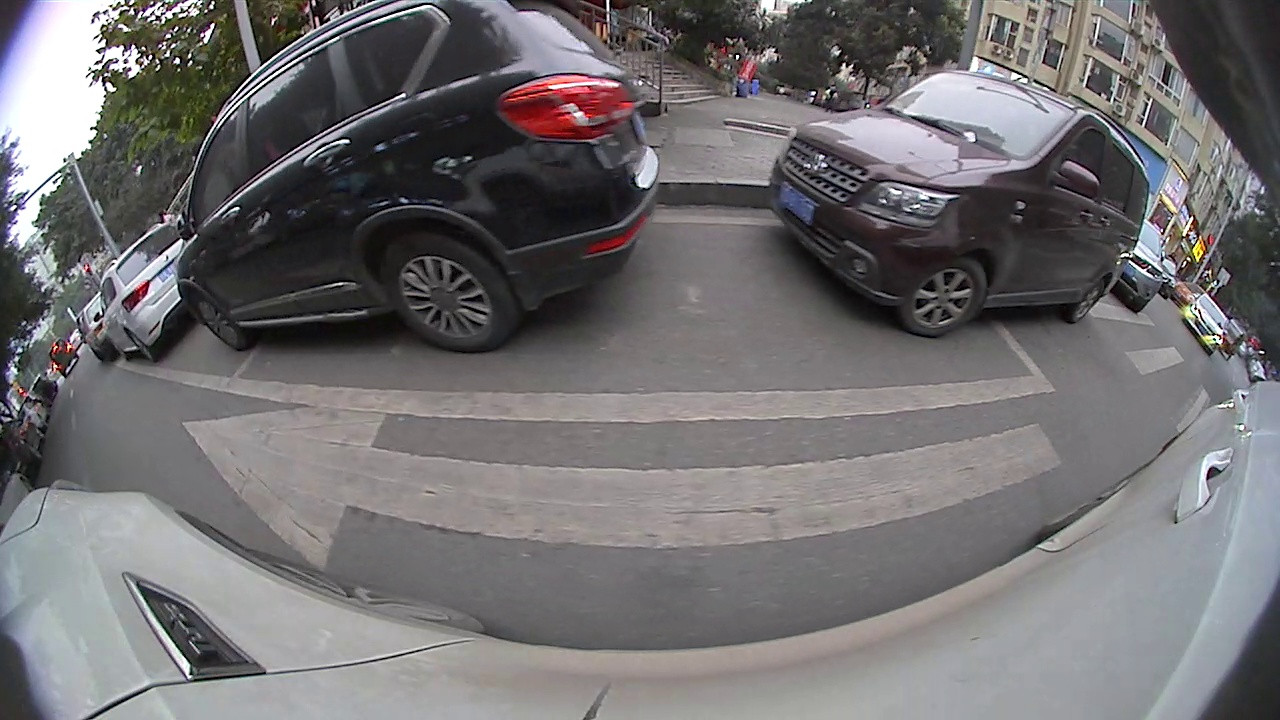car: (172, 2, 663, 356), (767, 63, 1153, 340), (95, 217, 193, 365), (1107, 217, 1168, 319), (1179, 290, 1234, 358)
front: (910, 255, 983, 339), (190, 296, 248, 351)
rear: (384, 236, 516, 353), (1073, 272, 1109, 326)
